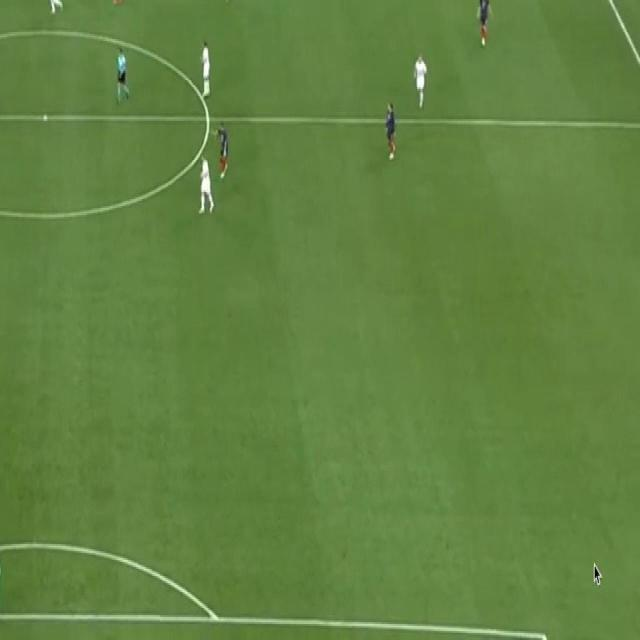player-white: (196, 150, 216, 218), (210, 118, 230, 183), (113, 46, 131, 110), (382, 100, 399, 162), (412, 51, 428, 111), (197, 37, 211, 101), (475, 0, 493, 48), (46, 0, 64, 18), (110, 0, 127, 6), (0, 544, 1, 630), (222, 0, 236, 4)
